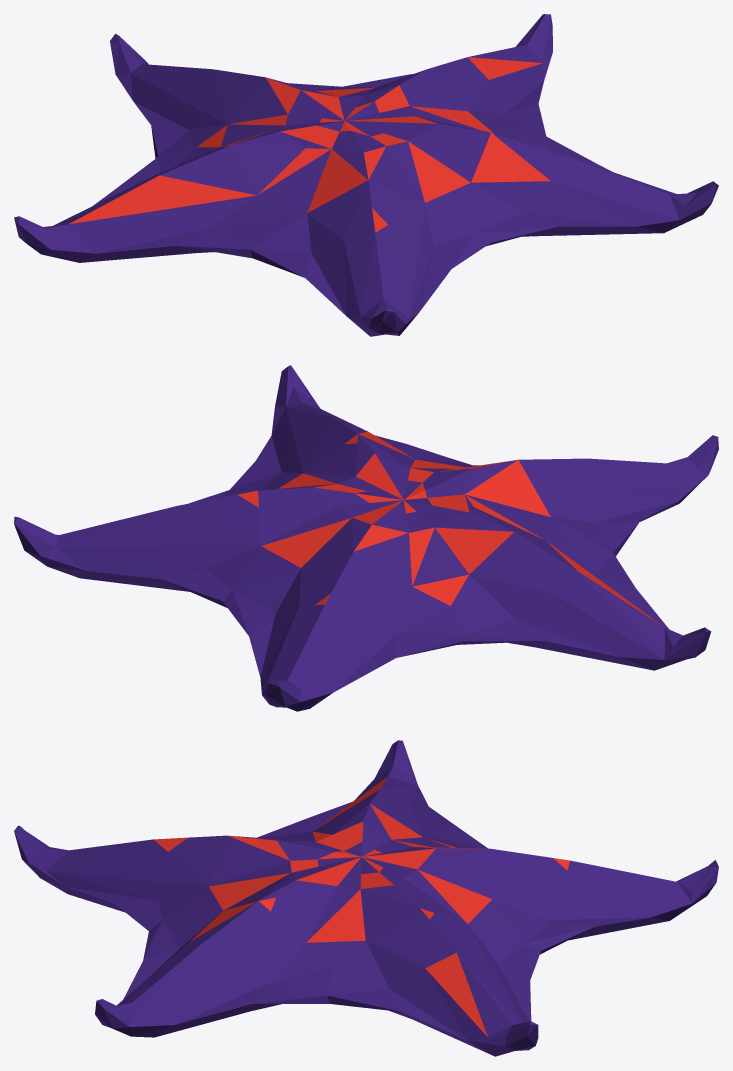
The model's file is Haixing2.fbx.
3 renders of one model, top to bottom at view 1: azimuth 30°, elevation 25°; view 2: azimuth 150°, elevation 25°; view 3: azimuth 270°, elevation 25°, orthographic. The views are drawn at different scales.
Parts seen in each view (by area): view 1: samor_2025_05; view 2: samor_2025_05; view 3: samor_2025_05.
Boxes of the visible parts, x1=… form: samor_2025_05: x1=14, y1=14, x2=718, y2=336; samor_2025_05: x1=14, y1=365, x2=718, y2=711; samor_2025_05: x1=14, y1=740, x2=718, y2=1056.
Size of the model in its own units: 271 by 43.64 by 274.
